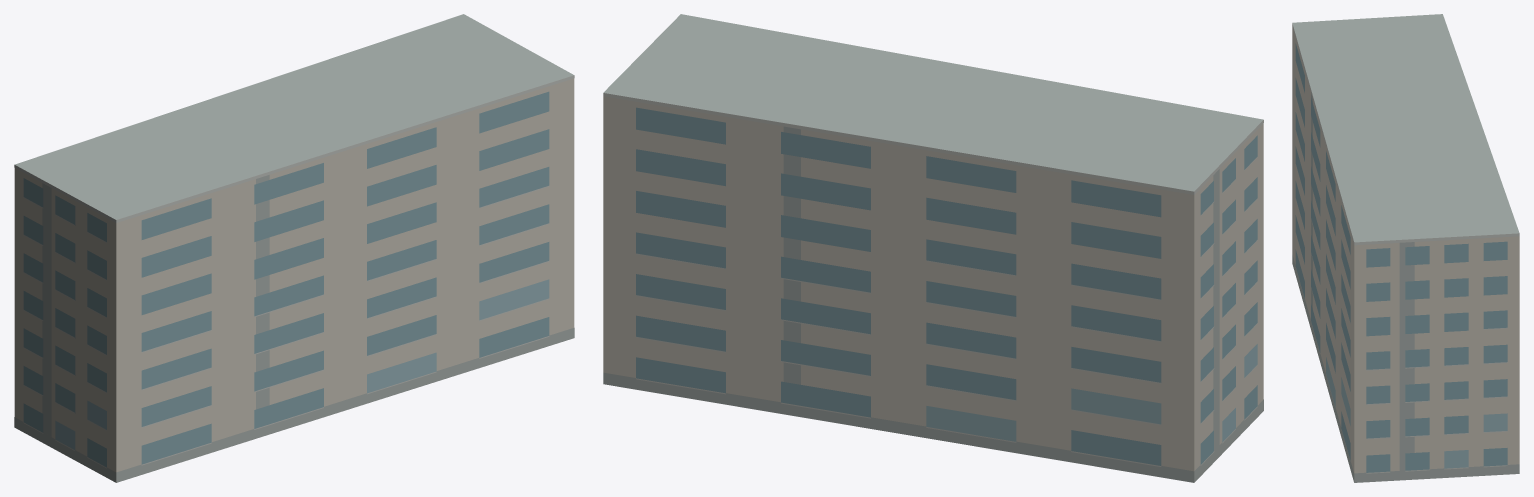
Rendered from survey-upis-33044994.glb.
3 renders of one model, left to right at view 1: azimuth 30°, elevation 25°; view 2: azimuth 150°, elevation 25°; view 3: azimuth 270°, elevation 25°, orthographic. The views are drawn at different scales.
Visible parts, largest first — view 1: survey-upis-33044994.tmp; view 2: survey-upis-33044994.tmp; view 3: survey-upis-33044994.tmp.
Boxes of the visible parts, x1,y1,x2,y2 form: survey-upis-33044994.tmp: (14,14,574,482); survey-upis-33044994.tmp: (603,14,1263,482); survey-upis-33044994.tmp: (1292,14,1519,482).
Size of the model in its own units: 41.56 by 20.4 by 17.49.
